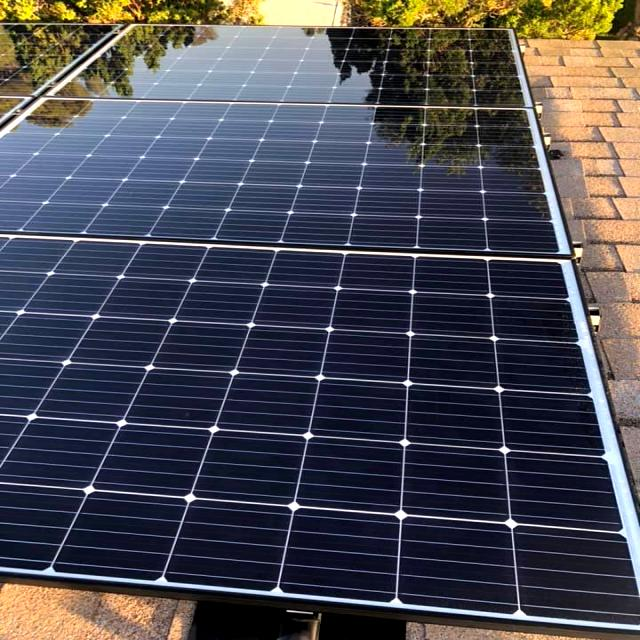crack: (0, 217, 640, 640), (0, 79, 628, 278), (19, 7, 598, 125)
